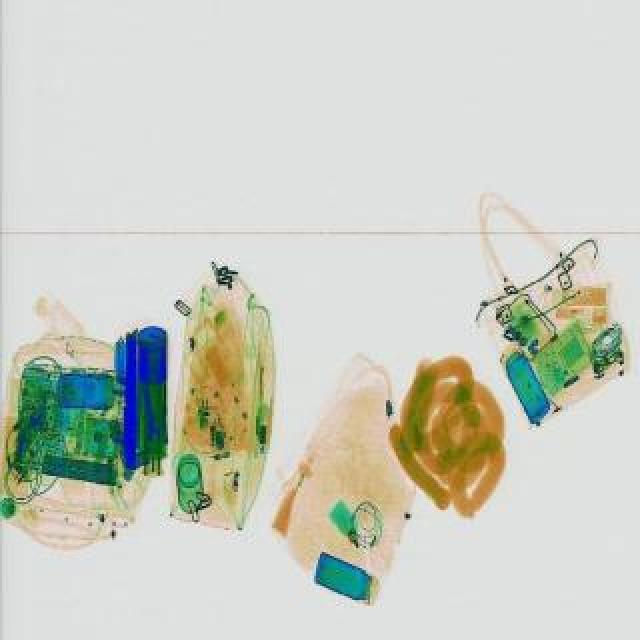scissors: (136, 388, 160, 446)
